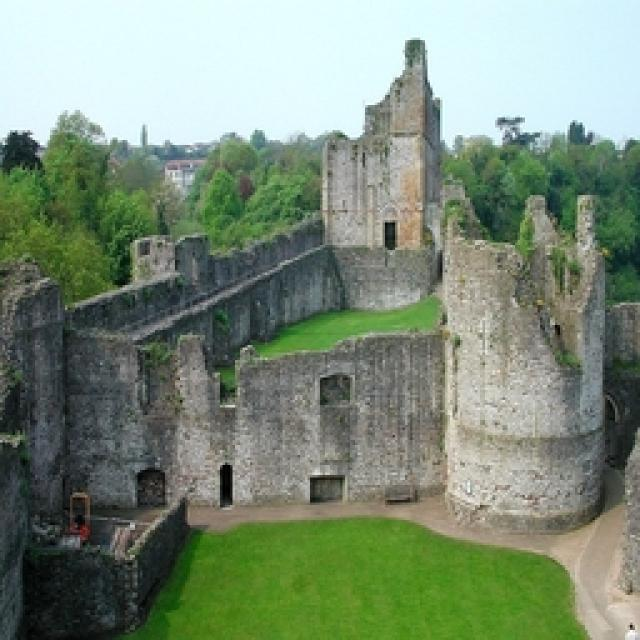Abbey: (336, 148, 443, 289)
